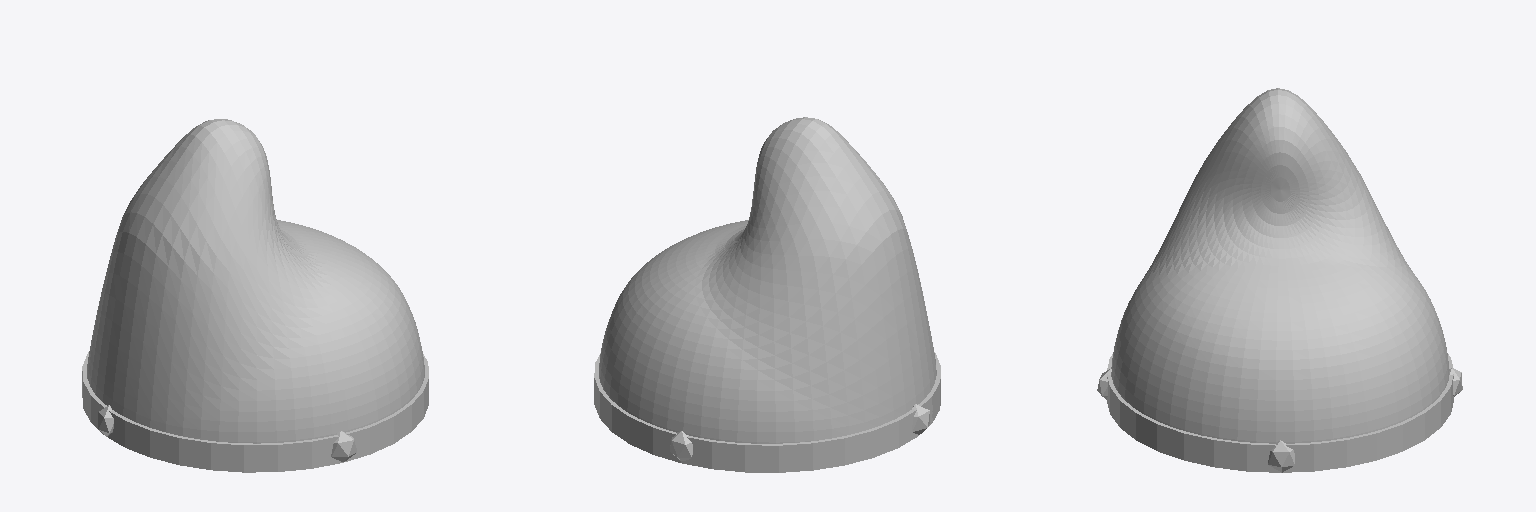
File: doge_corno.obj
3 renders of one model, left to right at view 1: azimuth 30°, elevation 25°; view 2: azimuth 150°, elevation 25°; view 3: azimuth 270°, elevation 25°, orthographic.
Parts seen in each view (by area): view 1: Icosphere.002; view 2: Icosphere.002; view 3: Icosphere.002.
Part boxes in pixels (bbox=[...]): Icosphere.002: bbox=[82, 119, 428, 472]; Icosphere.002: bbox=[594, 117, 940, 472]; Icosphere.002: bbox=[1097, 88, 1462, 472].
Bounding box in the file's own units: 2.16 × 1.89 × 2.15.